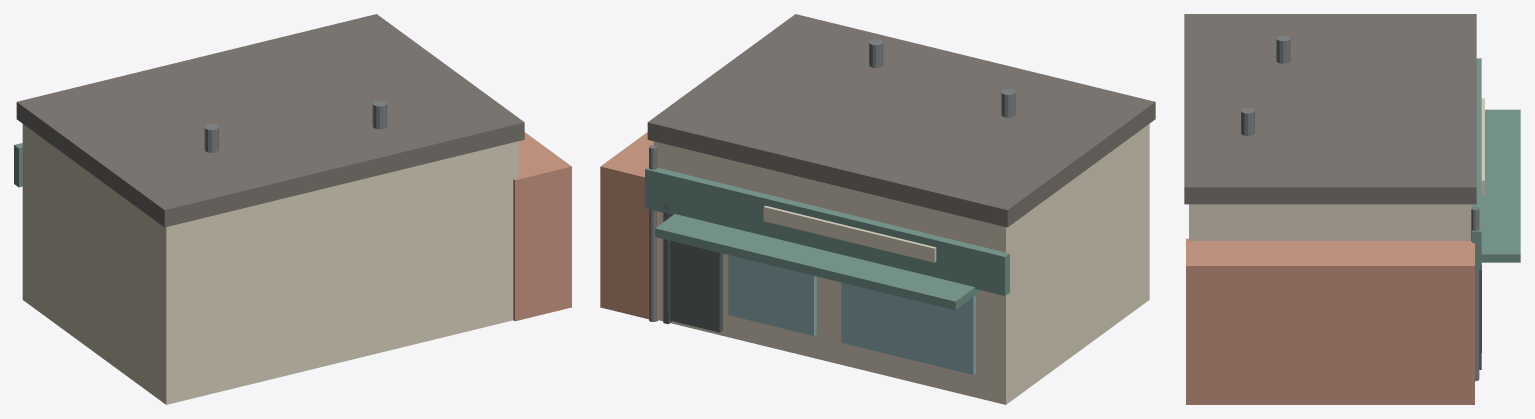
File: corner_shop.gltf
3 views of the same model, side by side, from view 1: azimuth 30°, elevation 25°; view 2: azimuth 150°, elevation 25°; view 3: azimuth 270°, elevation 25° (orthographic).
Visible parts, largest first — view 1: ShopShell, FlatRoof, SideExtension; view 2: FlatRoof, ShopShell, Fascia, Awning, WindowL, SideExtension, WindowR, Door, ShopSignPanel, Drainpipe; view 3: FlatRoof, SideExtension, ShopShell, Awning, Fascia, Drainpipe, Vent1, ShopSignPanel, Vent2.
Part boxes in pixels (x1,y1,x2,y2): ShopShell: [22, 124, 518, 404]; FlatRoof: [16, 14, 524, 227]; SideExtension: [513, 132, 571, 321]; FlatRoof: [647, 14, 1155, 227]; ShopShell: [653, 124, 1149, 404]; Fascia: [645, 166, 1009, 295]; Awning: [655, 214, 979, 310]; WindowL: [841, 282, 975, 374]; SideExtension: [600, 132, 658, 321]; WindowR: [728, 255, 816, 335]; Door: [670, 214, 722, 332]; ShopSignPanel: [763, 205, 936, 262]; Drainpipe: [649, 145, 657, 321]; FlatRoof: [1184, 14, 1476, 204]; SideExtension: [1186, 238, 1474, 404]; ShopShell: [1189, 204, 1471, 240]; Awning: [1481, 109, 1520, 262]; Fascia: [1472, 58, 1481, 270]; Drainpipe: [1471, 206, 1479, 381]; Vent1: [1276, 35, 1290, 63]; ShopSignPanel: [1481, 98, 1484, 194]; Vent2: [1241, 107, 1254, 135].
Size of the model in its own units: 7.87 by 4.06 by 5.69.
